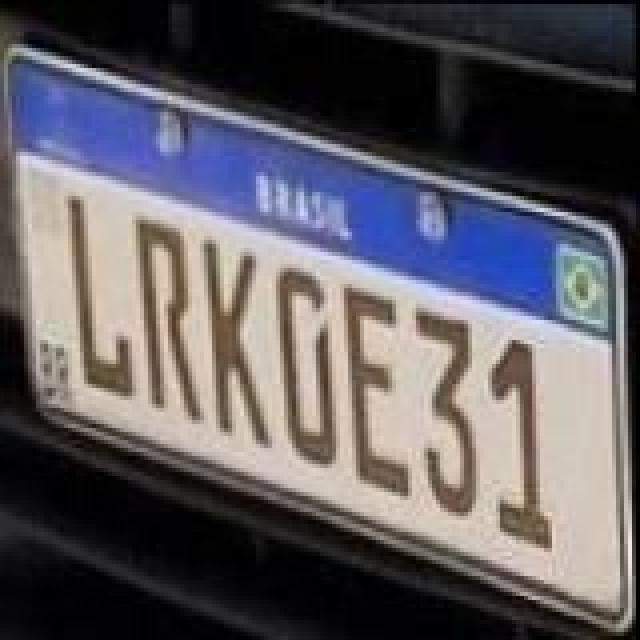1: (490, 336, 558, 560)
3: (414, 306, 482, 518)
D: (272, 264, 340, 468)
E: (342, 286, 410, 502)
K: (202, 242, 274, 454)
L: (68, 194, 136, 398)
R: (134, 220, 206, 428)
